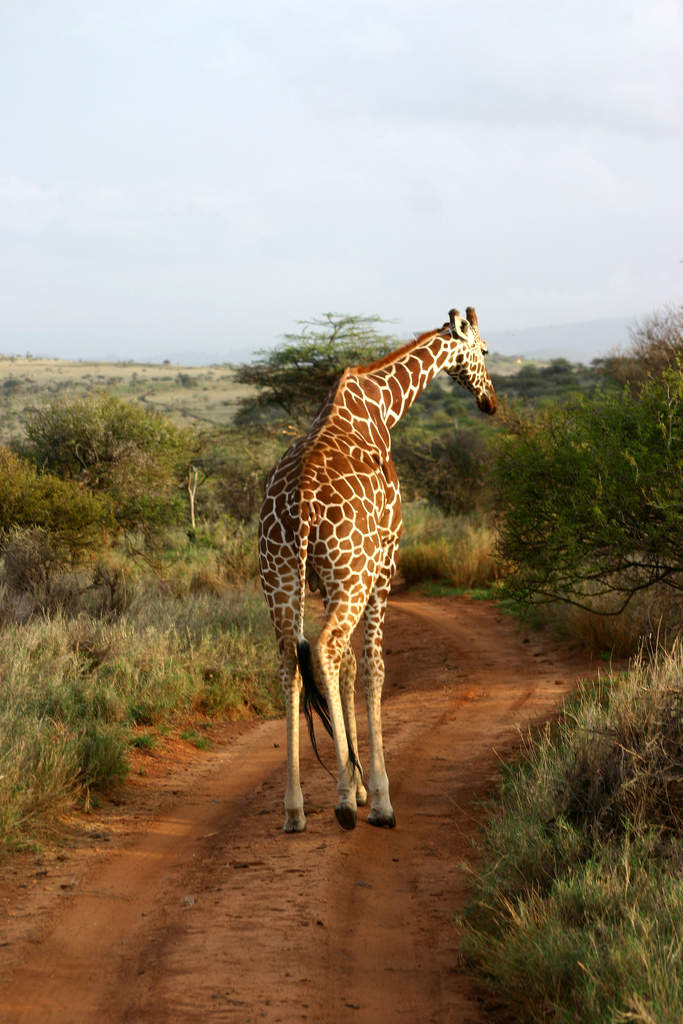giraffe: (228, 287, 515, 806)
